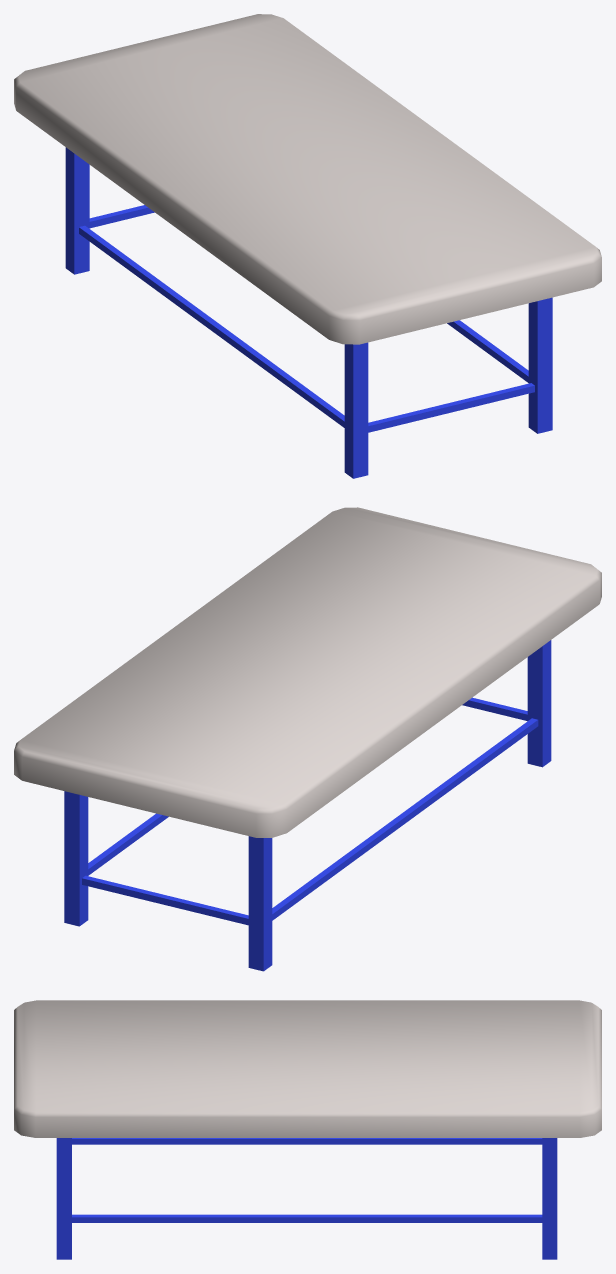
File: ban 4.FBX
3 renders of one model, top to bottom at view 1: azimuth 30°, elevation 25°; view 2: azimuth 150°, elevation 25°; view 3: azimuth 270°, elevation 25°, orthographic. The views are drawn at different scales.
Visible parts, largest first — view 1: Box1138; view 2: Box1138; view 3: Box1138.
Boxes of the visible parts, left/top/right/bottom form: Box1138: left=14, top=14, right=601, bottom=478; Box1138: left=14, top=507, right=601, bottom=971; Box1138: left=14, top=1000, right=601, bottom=1259.
Size of the model in its own units: 2.2 by 1.43 by 4.76.
